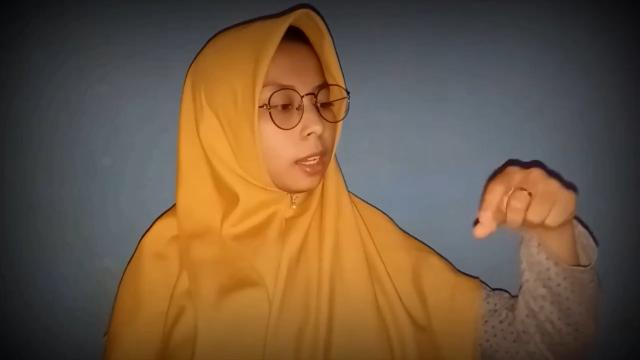Q: (464, 159, 578, 243)
